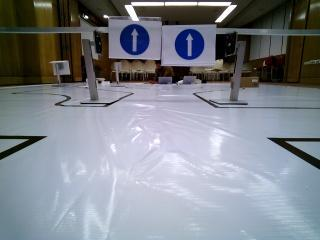straight: (106, 16, 160, 60), (162, 23, 216, 66)
